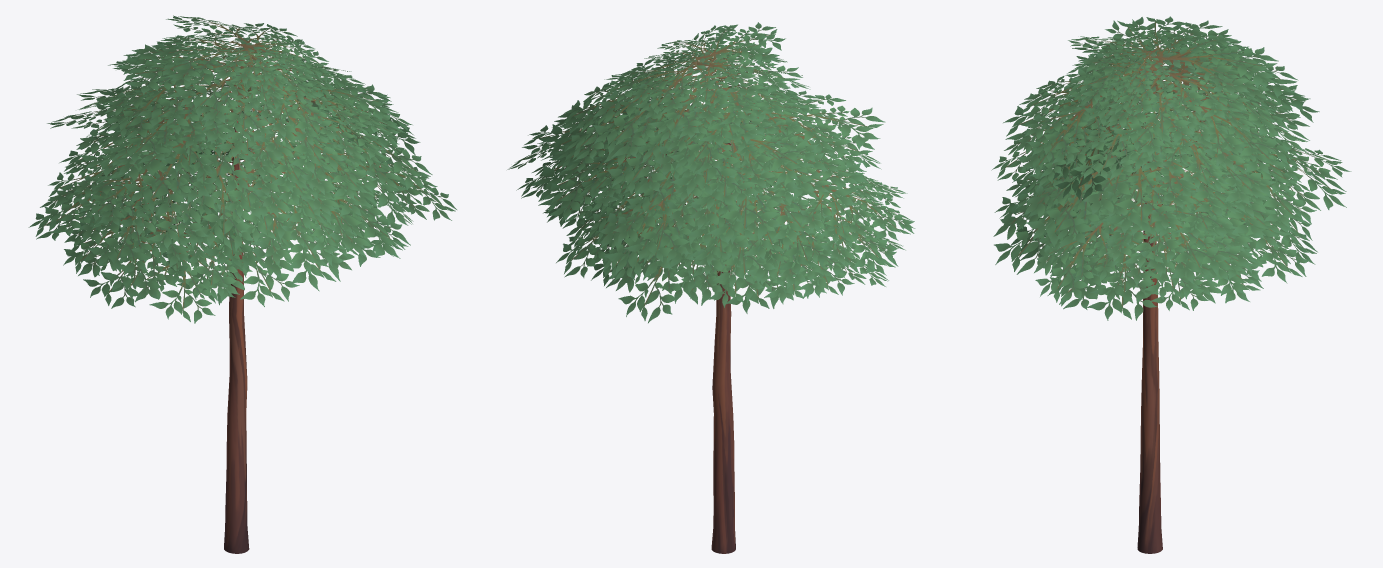
File: Tree_03_R.fbx
3 views of the same model, side by side, from view 1: azimuth 30°, elevation 25°; view 2: azimuth 150°, elevation 25°; view 3: azimuth 270°, elevation 25° (orthographic).
Visible parts, largest first — view 1: Tree_03_leaves, Tree_03; view 2: Tree_03_leaves, Tree_03; view 3: Tree_03_leaves, Tree_03.
Boxes of the visible parts, x1,y1,x2,y2 form: Tree_03_leaves: (28, 15, 456, 323); Tree_03: (224, 120, 249, 553); Tree_03_leaves: (507, 22, 915, 323); Tree_03: (711, 143, 735, 553); Tree_03_leaves: (991, 16, 1351, 320); Tree_03: (1137, 113, 1162, 553).
Bounding box in the file's own units: 570 × 698 × 493.
